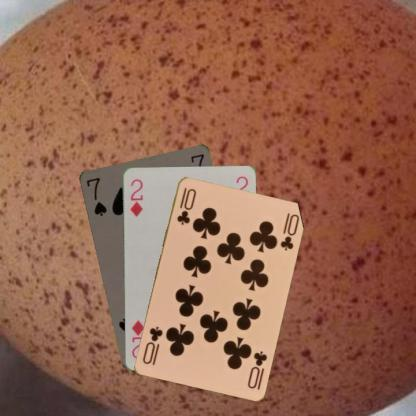10c: (174, 184, 197, 226), (245, 348, 268, 390)
2d: (128, 176, 144, 218)
7s: (83, 174, 108, 218)
